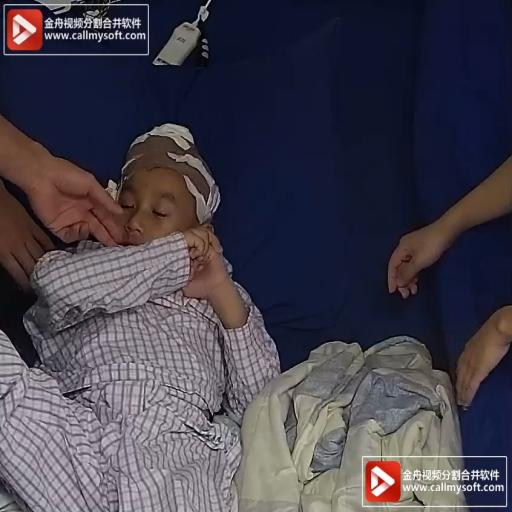Seizure: (113, 148, 214, 267)
